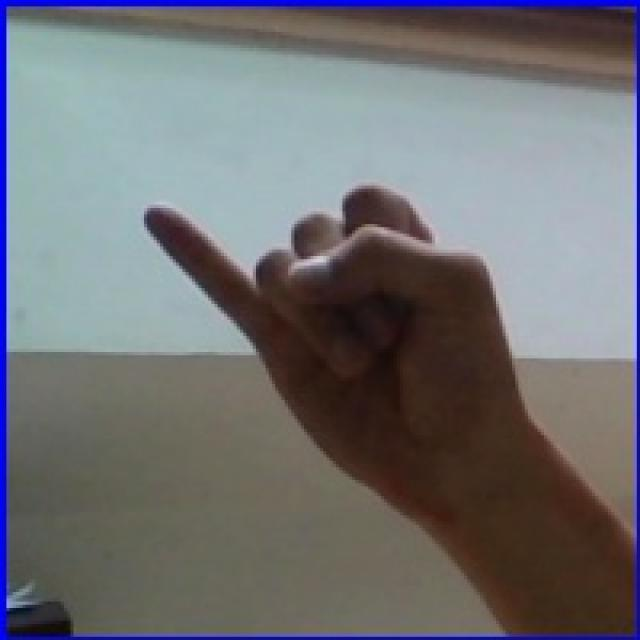J: (99, 115, 562, 532)
